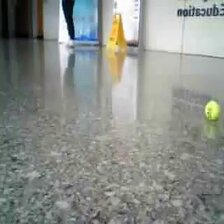tennis: (204, 100, 221, 121)
